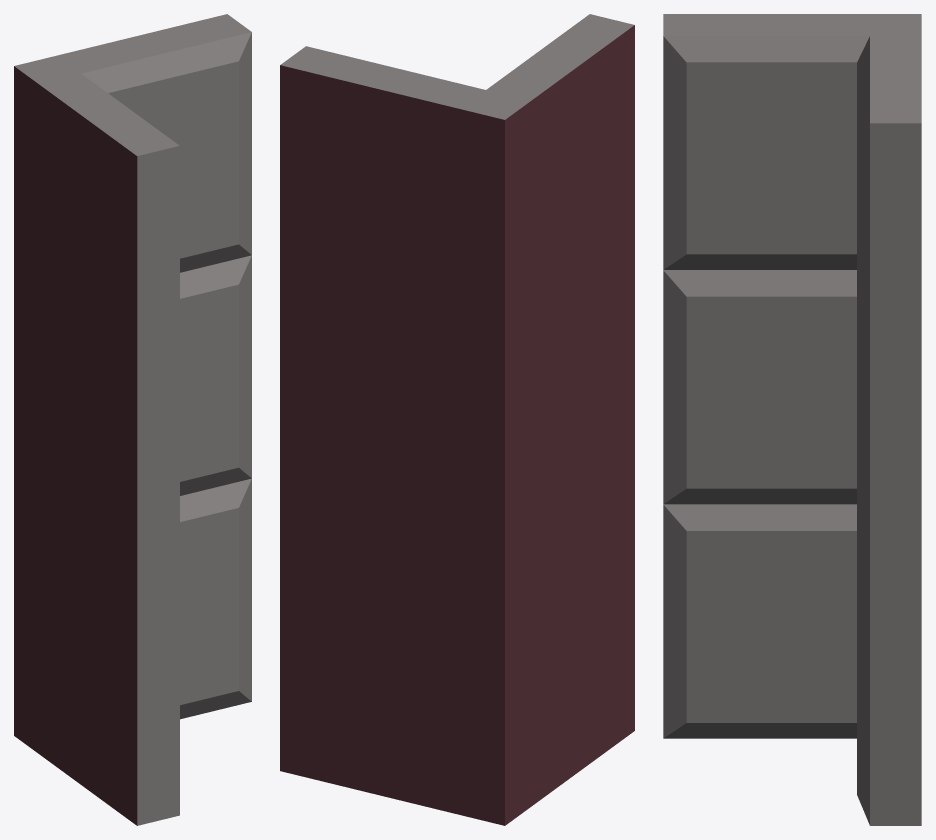
File: scifi-scifi-wall-corner.glb
3 renders of one model, left to right at view 1: azimuth 30°, elevation 25°; view 2: azimuth 150°, elevation 25°; view 3: azimuth 270°, elevation 25°, orthographic. The views are drawn at different scales.
Visible parts, largest first — view 1: scifi-wall-corner; view 2: scifi-wall-corner; view 3: scifi-wall-corner.
Part boxes in pixels (<box>): scifi-wall-corner: <box>14,14,251,825</box>; scifi-wall-corner: <box>280,14,634,825</box>; scifi-wall-corner: <box>663,14,921,825</box>.
Size of the model in its own units: 1 by 3 by 1.
